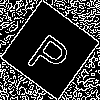P: (25, 24, 78, 81)
